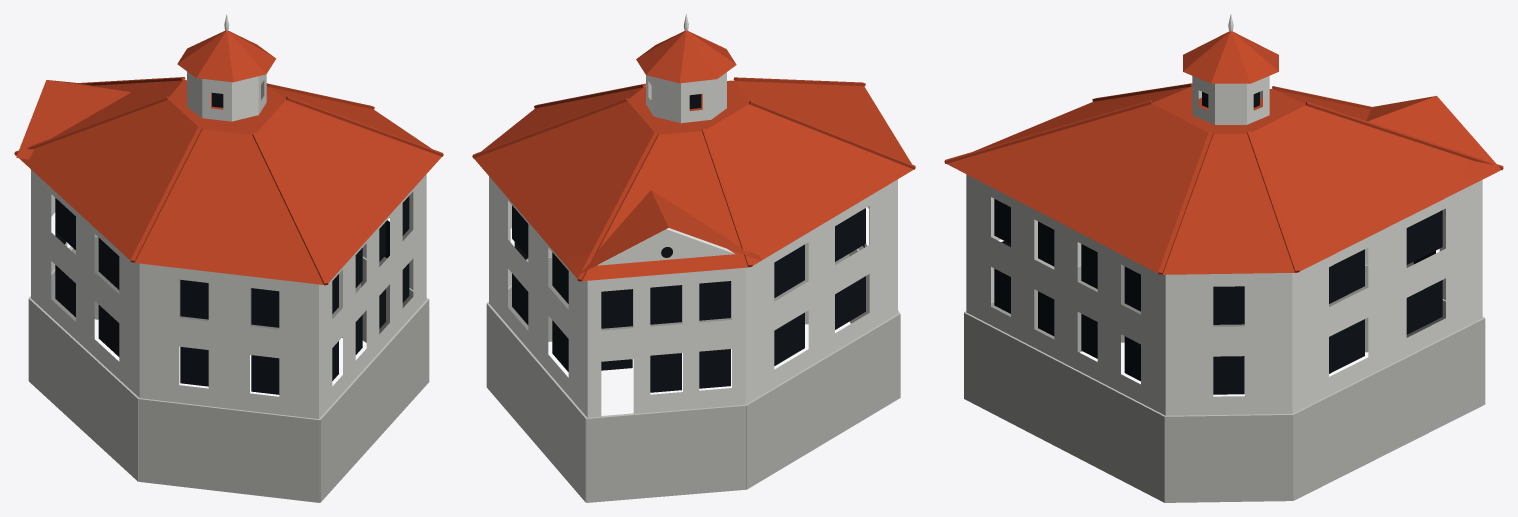
File: kat28.lod.glb
3 views of the same model, side by side, from view 1: azimuth 30°, elevation 25°; view 2: azimuth 150°, elevation 25°; view 3: azimuth 270°, elevation 25° (orthographic). The views are drawn at different scales.
Visible parts, largest first — view 1: kat28_roof, kat28_wall, kat28_stone, kat28_glass; view 2: kat28_roof, kat28_wall, kat28_stone, kat28_glass; view 3: kat28_roof, kat28_wall, kat28_stone, kat28_glass.
Boxes of the visible parts, x1,y1,x2,y2 form: kat28_roof: [14, 30, 443, 285]; kat28_wall: [31, 71, 426, 418]; kat28_stone: [28, 236, 429, 502]; kat28_glass: [55, 92, 409, 394]; kat28_roof: [472, 30, 915, 281]; kat28_wall: [489, 72, 897, 417]; kat28_stone: [486, 242, 900, 502]; kat28_glass: [512, 94, 865, 392]; kat28_roof: [944, 31, 1503, 274]; kat28_wall: [966, 76, 1482, 415]; kat28_stone: [964, 264, 1485, 502]; kat28_glass: [994, 92, 1442, 394].
Bounding box in the file's own units: 18.28 × 19.6 × 24.7.
